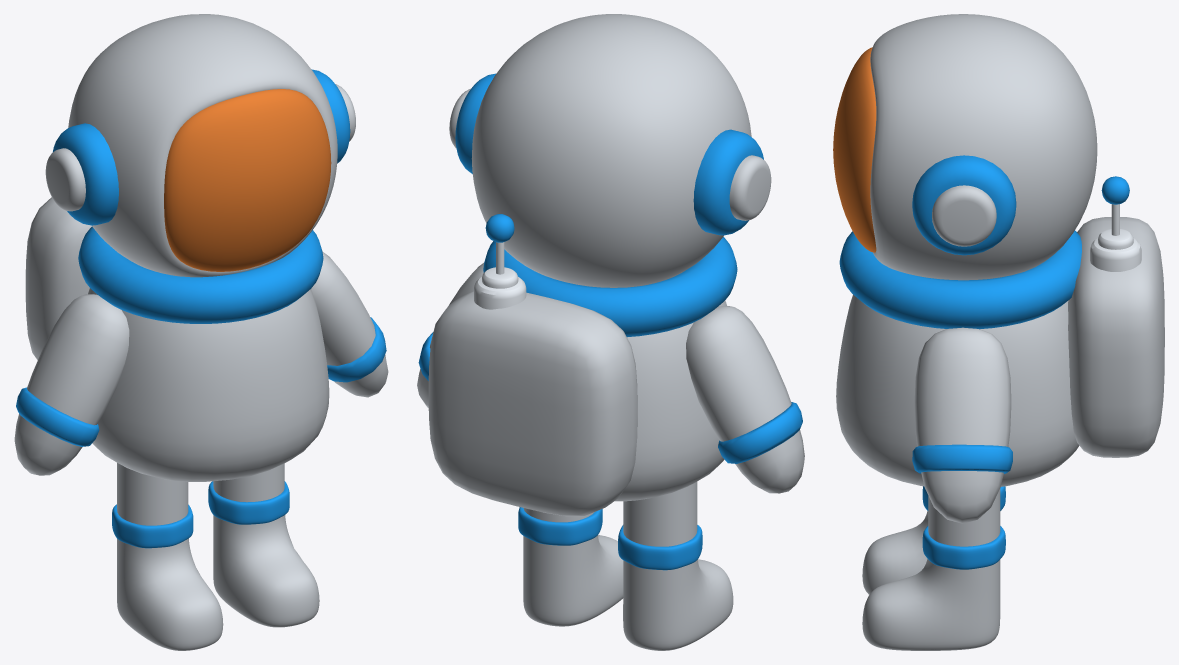
The model's file is astronaut.fbx.
3 views of the same model, side by side, from view 1: azimuth 30°, elevation 25°; view 2: azimuth 150°, elevation 25°; view 3: azimuth 270°, elevation 25° (orthographic). The views are drawn at different scales.
Visible parts, largest first — view 1: 큐브, Cube, Cube.001, 큐브.009, Torus, 큐브.007, 큐브.001, 큐브.005, 큐브.003, 실린더.003, 큐브.008, 실린더.004 (+4 smaller); view 2: Cube, 큐브.005, 큐브.007, 큐브.009, 큐브, Torus, 큐브.001, 실린더.003, 큐브.008, 실린더.004, 큐브.010, 큐브.002 (+4 smaller); view 3: Cube, 큐브, 큐브.005, 큐브.003, 큐브.001, Torus, Cube.001, 실린더.001, 실린더.002, 큐브.009, 큐브.004, 실린더 (+2 smaller).
Part boxes in pixels (x1,y1,x2,y2): 큐브: [88, 288, 329, 481]; Cube: [68, 14, 337, 277]; Cube.001: [164, 89, 331, 271]; 큐브.009: [117, 463, 223, 650]; Torus: [78, 226, 323, 323]; 큐브.007: [14, 294, 129, 475]; 큐브.001: [213, 463, 319, 627]; 큐브.005: [25, 197, 91, 360]; 큐브.003: [311, 251, 388, 397]; 실린더.003: [52, 123, 118, 225]; 큐브.008: [16, 387, 99, 446]; 실린더.004: [45, 148, 85, 211]; Cube: [471, 14, 751, 287]; 큐브.005: [428, 291, 637, 516]; 큐브.007: [686, 306, 804, 493]; 큐브.009: [623, 482, 733, 650]; 큐브: [614, 300, 726, 501]; Torus: [483, 237, 737, 337]; 큐브.001: [523, 508, 623, 626]; 실린더.003: [693, 129, 763, 235]; 큐브.008: [718, 402, 802, 463]; 실린더.004: [729, 155, 771, 220]; 큐브.010: [618, 525, 702, 570]; 큐브.002: [518, 507, 602, 545]; Cube: [870, 14, 1097, 280]; 큐브: [836, 294, 1079, 486]; 큐브.005: [1068, 217, 1164, 457]; 큐브.003: [914, 327, 1011, 523]; 큐브.001: [862, 488, 1000, 650]; Torus: [839, 230, 1081, 329]; Cube.001: [833, 47, 876, 252]; 실린더.001: [912, 155, 1016, 255]; 실린더.002: [932, 185, 996, 246]; 큐브.009: [862, 511, 928, 594]; 큐브.004: [912, 444, 1012, 473]; 실린더: [1090, 204, 1141, 271].
Bounding box in the file's own units: 185 × 282 × 144.
